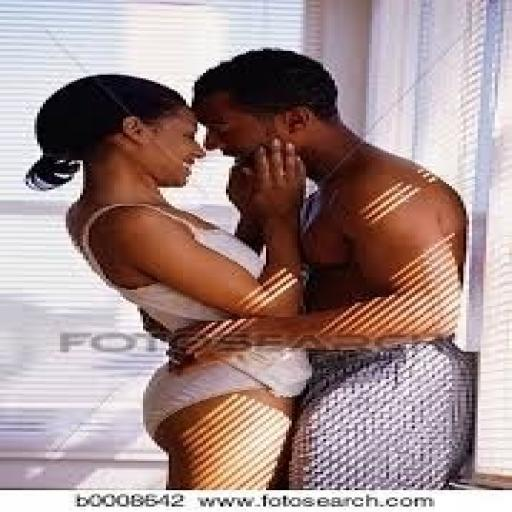hugging: (23, 46, 478, 490)
